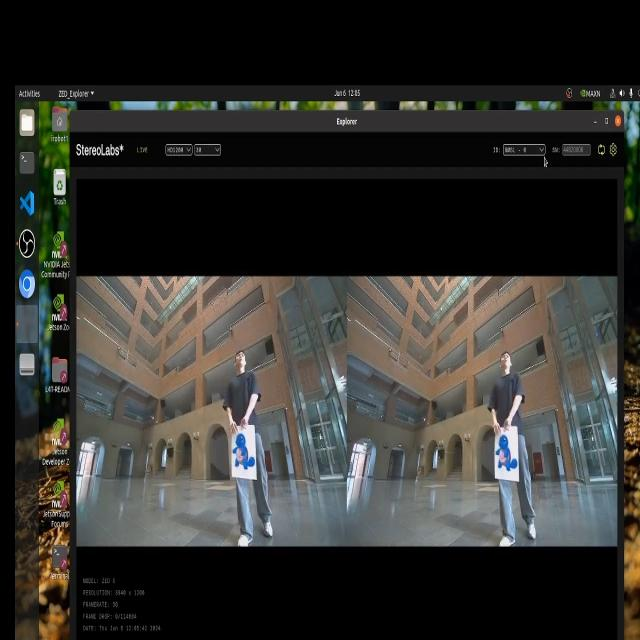blue: (225, 427, 263, 475), (496, 433, 520, 479)
